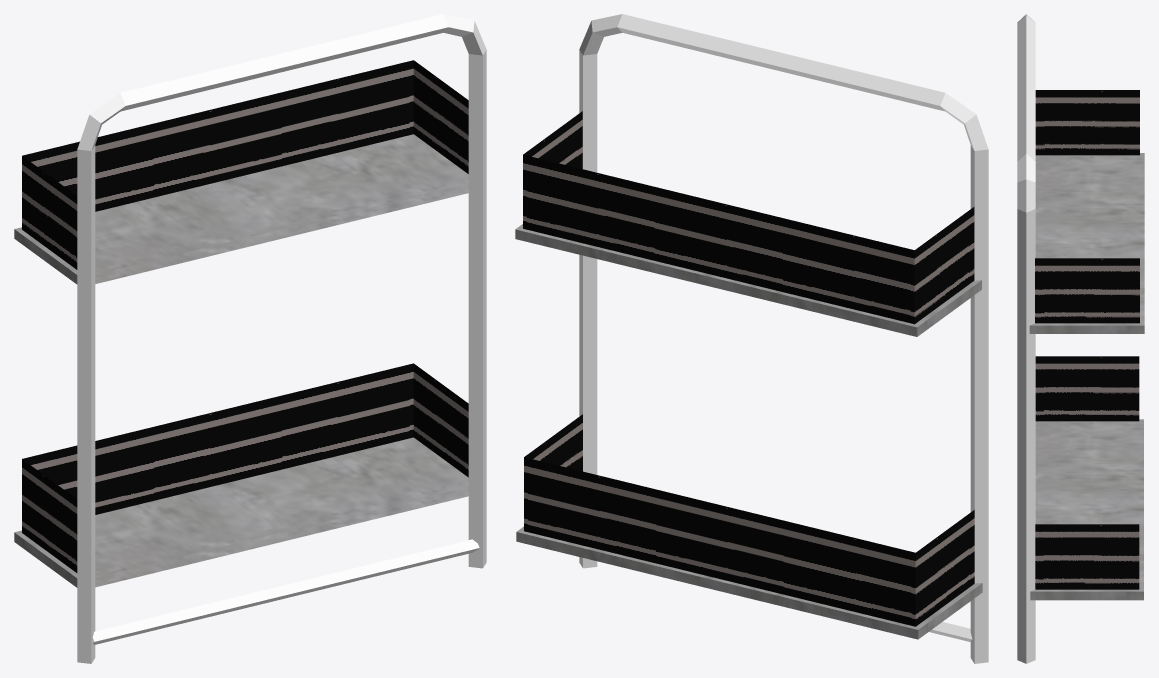
Rendered from Shelf_06.glb.
3 renders of one model, left to right at view 1: azimuth 30°, elevation 25°; view 2: azimuth 150°, elevation 25°; view 3: azimuth 270°, elevation 25°, orthographic. The views are drawn at different scales.
Visible parts, largest first — view 1: Shelf_06; view 2: Shelf_06; view 3: Shelf_06.
Part boxes in pixels (left/top/right/bottom): Shelf_06: left=14, top=14, right=486, bottom=663; Shelf_06: left=515, top=14, right=988, bottom=663; Shelf_06: left=1017, top=14, right=1144, bottom=663.
Bounding box in the file's own units: 0.2862 × 0.3735 × 0.0877.
3 materials, 2 textured.
